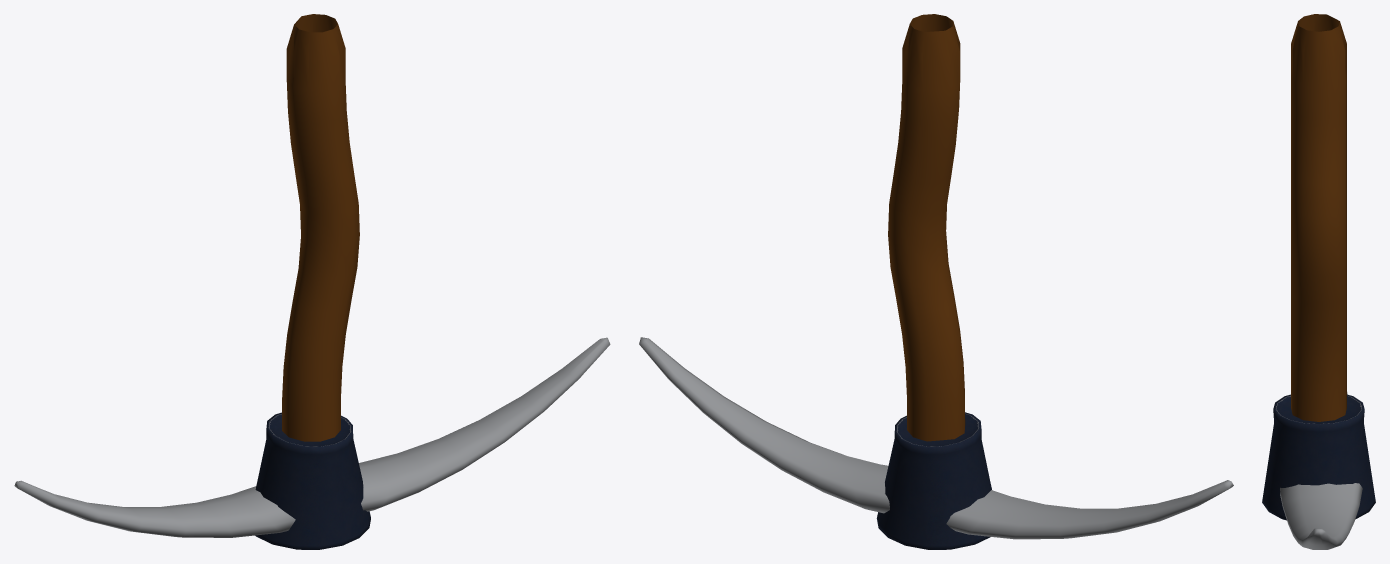
The model's file is Mole_Pickaxe.fbx.
The picture shows the model from 3 angles, left to right: view 1: azimuth 30°, elevation 25°; view 2: azimuth 150°, elevation 25°; view 3: azimuth 270°, elevation 25°; orthographic projection. The views are drawn at different scales.
Parts seen in each view (by area): view 1: Pickaxe; view 2: Pickaxe; view 3: Pickaxe.
Part boxes in pixels (x1=…): Pickaxe: x1=14, y1=14, x2=610, y2=549; Pickaxe: x1=639, y1=14, x2=1233, y2=549; Pickaxe: x1=1262, y1=14, x2=1375, y2=549.
Size of the model in its own units: 324 by 265 by 56.19.
1 material, 1 textured.
